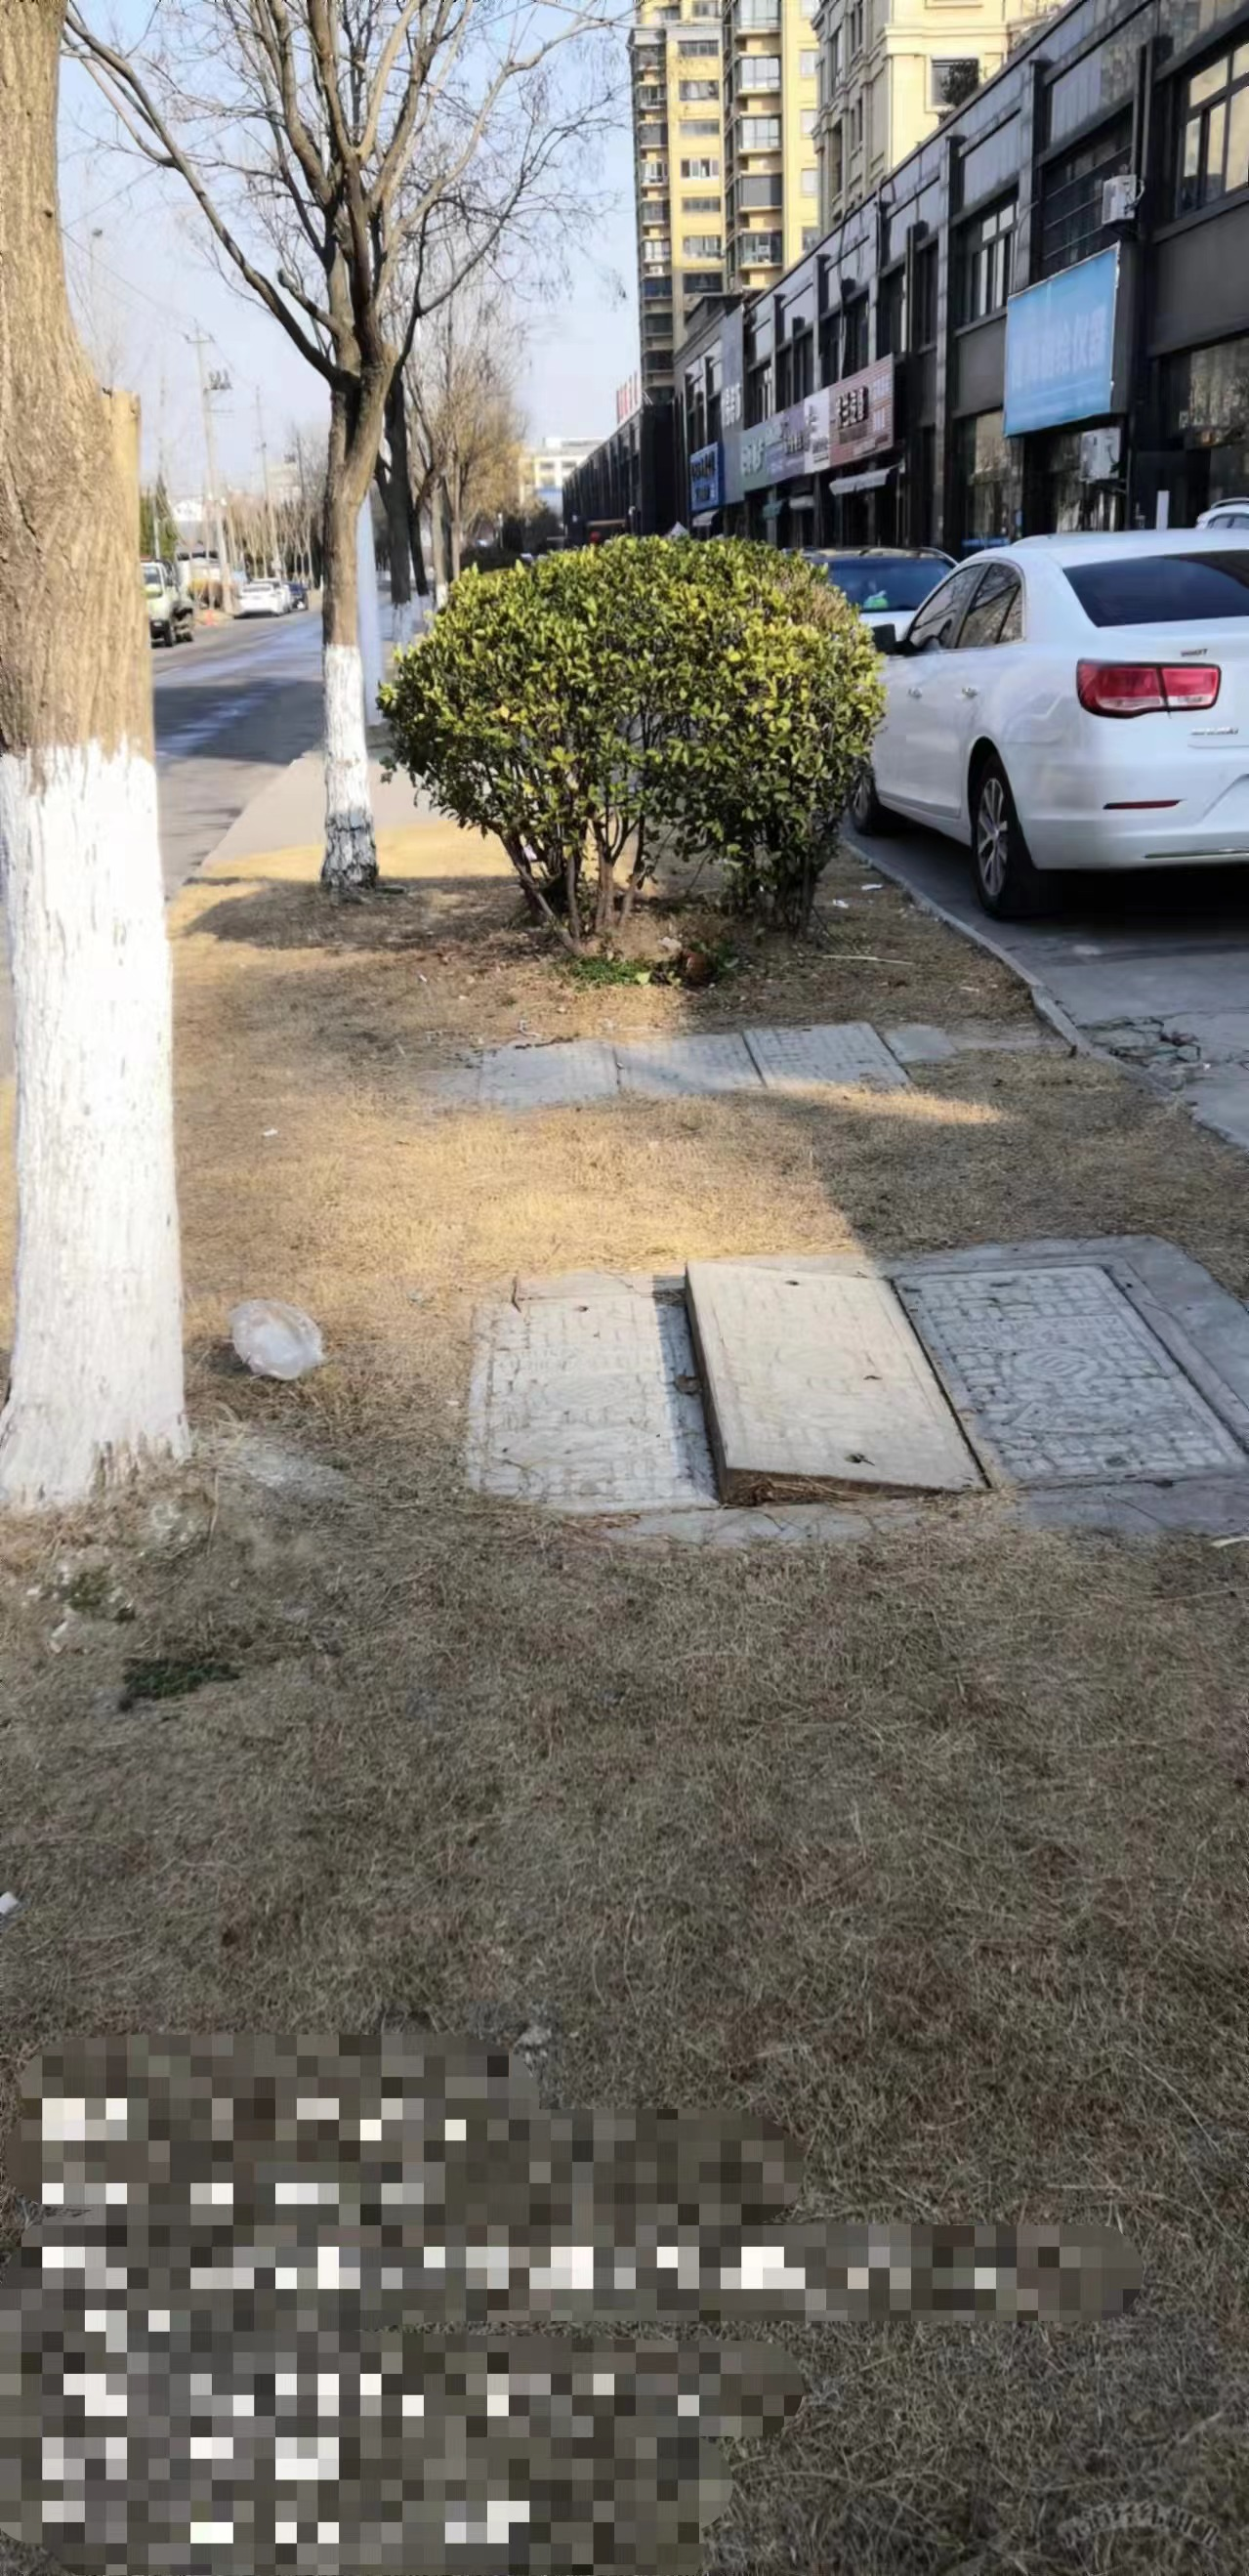well: (441, 1235, 1249, 1539)
